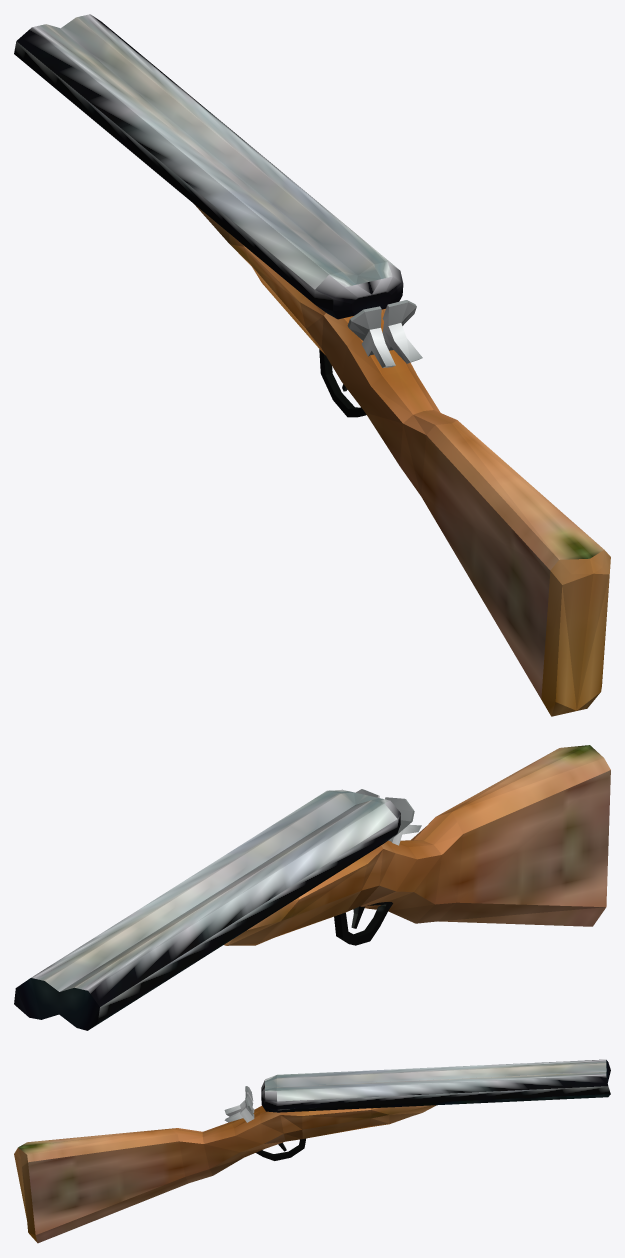
The model's file is shoot0018.obj.
3 views of the same model, one above another, from view 1: azimuth 30°, elevation 25°; view 2: azimuth 150°, elevation 25°; view 3: azimuth 270°, elevation 25° (orthographic). The views are drawn at different scales.
Visible parts, largest first — view 1: Cube, Cube.001, Cube.003, Cube.002; view 2: Cube, Cube.001, Cube.002, Cube.003; view 3: Cube, Cube.001, Cube.003, Cube.002.
Part boxes in pixels (left/top/right/bottom): Cube: left=194, top=204, right=610, bottom=716; Cube.001: left=14, top=14, right=403, bottom=319; Cube.003: left=347, top=300, right=422, bottom=367; Cube.002: left=319, top=349, right=366, bottom=417; Cube: left=224, top=745, right=610, bottom=945; Cube.001: left=14, top=789, right=400, bottom=1030; Cube.002: left=334, top=902, right=392, bottom=945; Cube.003: left=356, top=789, right=421, bottom=845; Cube: left=14, top=1105, right=436, bottom=1243; Cube.001: left=261, top=1059, right=610, bottom=1112; Cube.003: left=224, top=1086, right=254, bottom=1122; Cube.002: left=256, top=1138, right=306, bottom=1160.
Size of the model in its own units: 0.2091 by 0.7217 by 2.25.
1 material, 1 textured.
